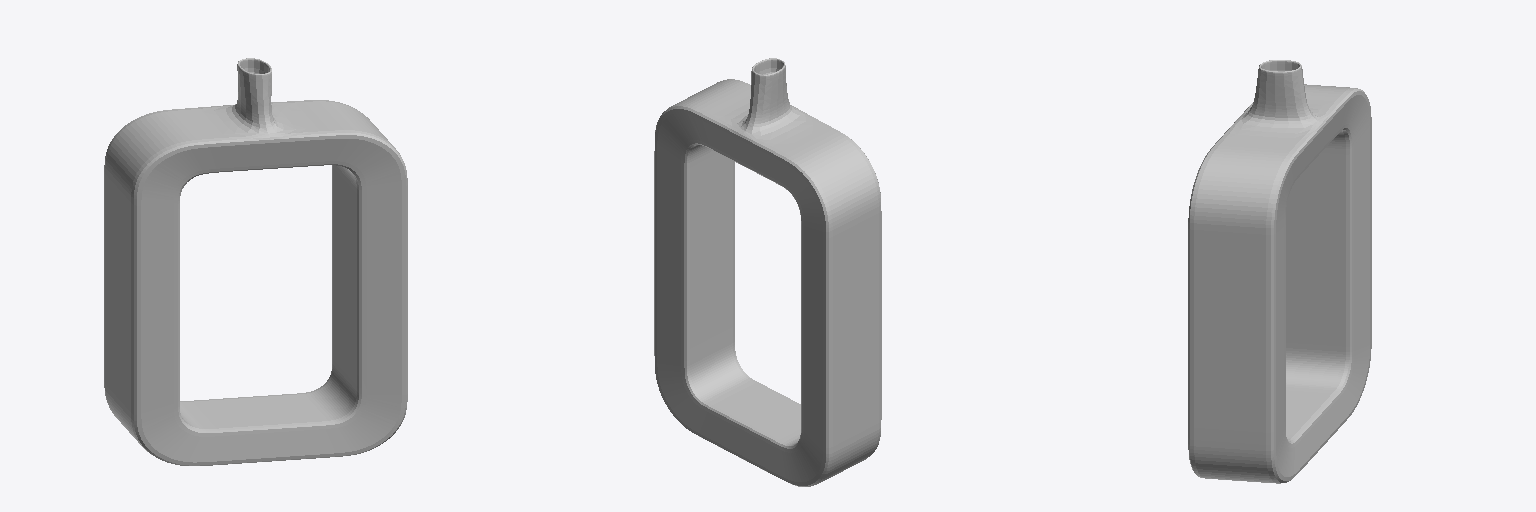
Rendered from vase1.obj.
3 views of the same model, side by side, from view 1: azimuth 30°, elevation 25°; view 2: azimuth 150°, elevation 25°; view 3: azimuth 270°, elevation 25° (orthographic).
Visible parts, largest first — view 1: Contemporary_Vase.1; view 2: Contemporary_Vase.1; view 3: Contemporary_Vase.1.
Part boxes in pixels (left/top/right/bottom): Contemporary_Vase.1: left=104, top=58, right=407, bottom=465; Contemporary_Vase.1: left=654, top=58, right=881, bottom=486; Contemporary_Vase.1: left=1188, top=60, right=1371, bottom=483.
Size of the model in its own units: 0.13 by 0.1998 by 0.0875.